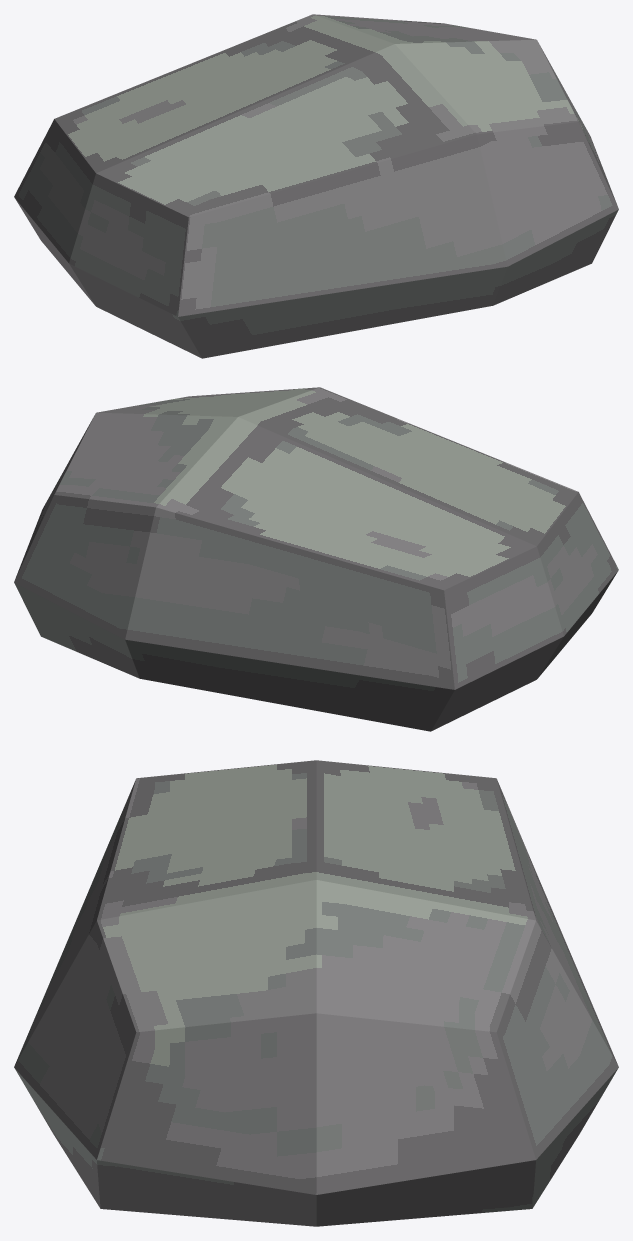
The model's file is Moust_model.fbx.
The picture shows the model from 3 angles, top to bottom: view 1: azimuth 30°, elevation 25°; view 2: azimuth 150°, elevation 25°; view 3: azimuth 270°, elevation 25°; orthographic projection. The views are drawn at different scales.
Visible parts, largest first — view 1: Cube.004; view 2: Cube.004; view 3: Cube.004.
Boxes of the visible parts, x1,y1,x2,y2 form: Cube.004: (14, 14, 618, 358); Cube.004: (14, 387, 618, 731); Cube.004: (14, 760, 618, 1226).
Size of the model in its own units: 105 by 36.76 by 78.62.
Materials: 1 (1 with a texture image).
